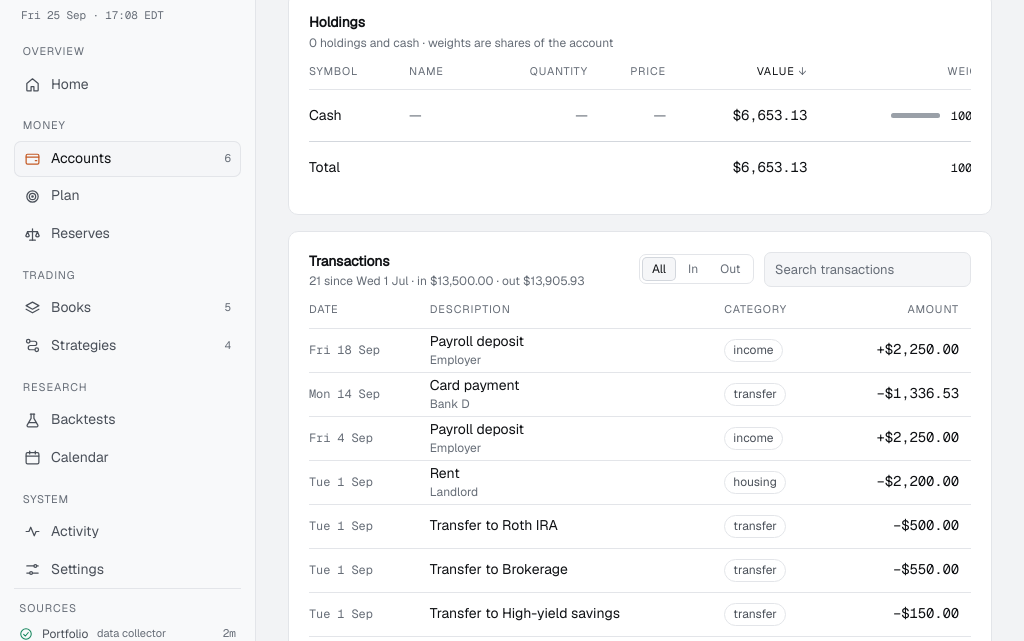
Test case: Account page › lists a bank account’s transactions newest first, with the totals, a Show filter and a search
The width and height of the screenshot is (1024, 641).
(page scrolled)
Click the button "Out".
click(730, 269)  # box x1=710 y1=257 x2=750 y2=281
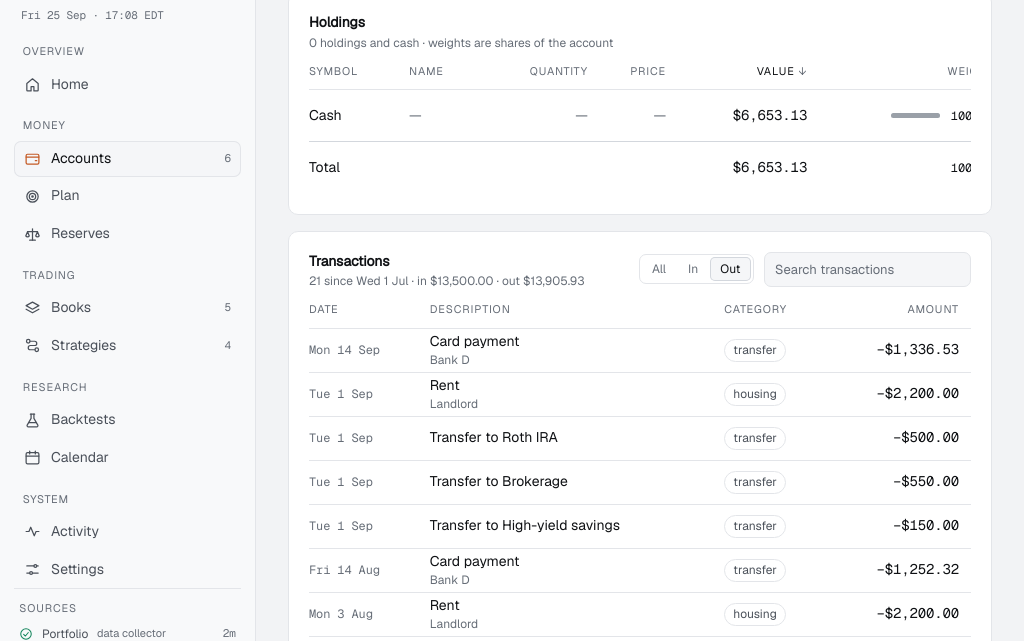
Click the button "In".
click(693, 269)  # box x1=678 y1=257 x2=708 y2=281
(page scrolled)
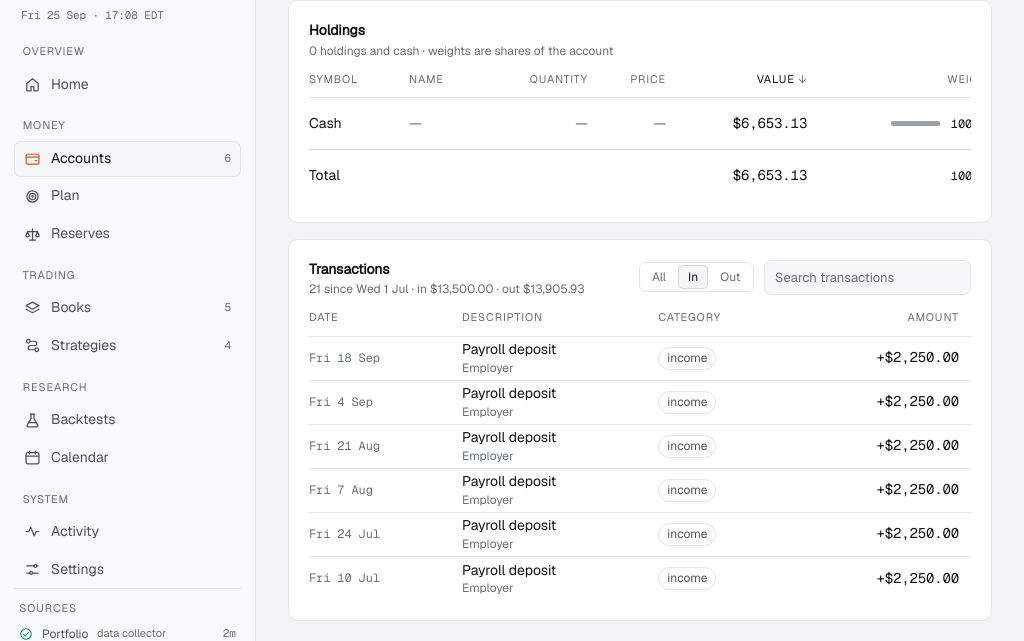
Click the button "All".
click(659, 277)  # box x1=642 y1=265 x2=676 y2=289
(page scrolled)
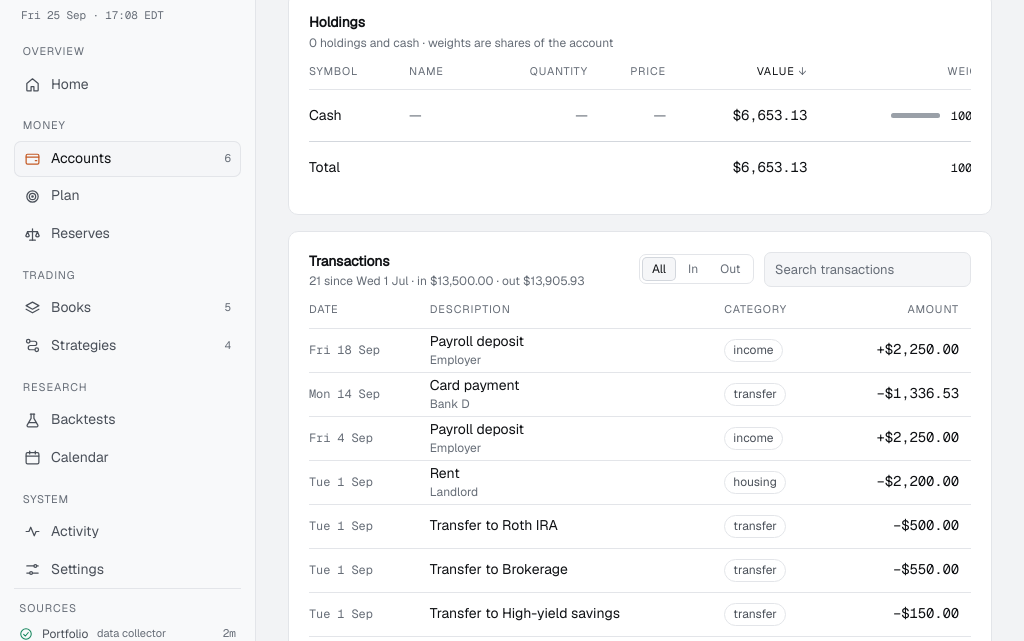
Type "rent" into the search field labelled "Search transactions".
click(868, 269); type("rent")  # box x1=764 y1=252 x2=971 y2=287
(page scrolled)
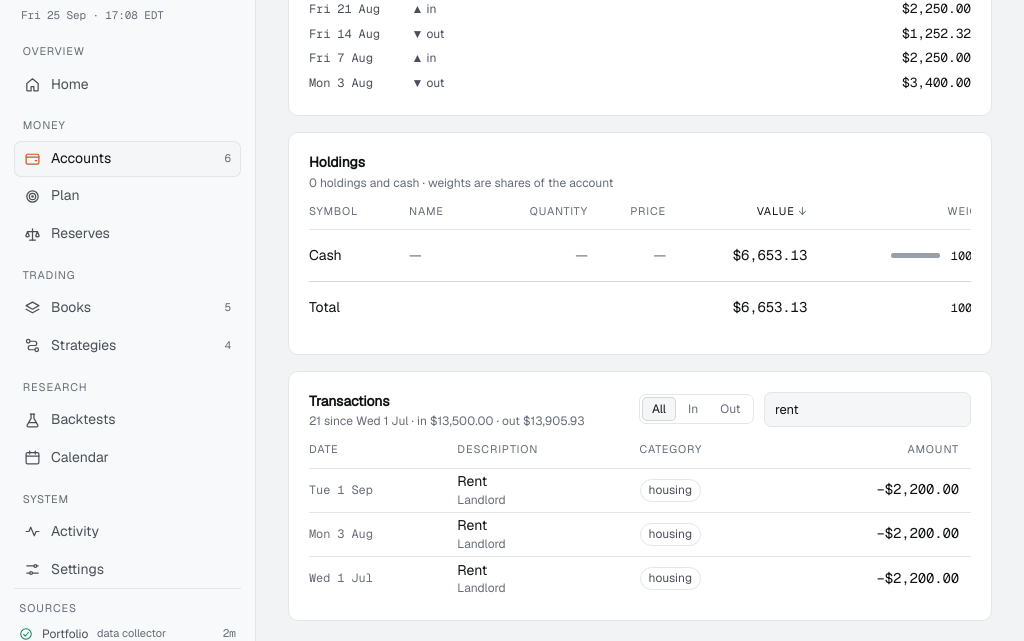
Replace the text in the search field named "Search transactions" with "landlord" at (868, 409), box x1=764 y1=392 x2=971 y2=427
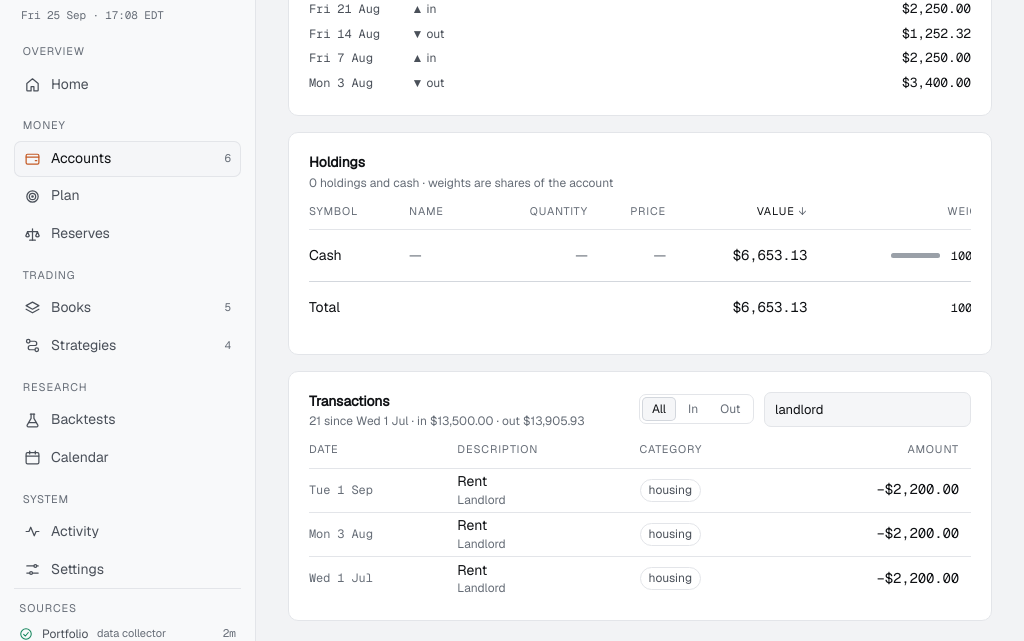
Replace the text in the search field named "Search transactions" with "zzz" at (868, 409), box x1=764 y1=392 x2=971 y2=427
(page scrolled)
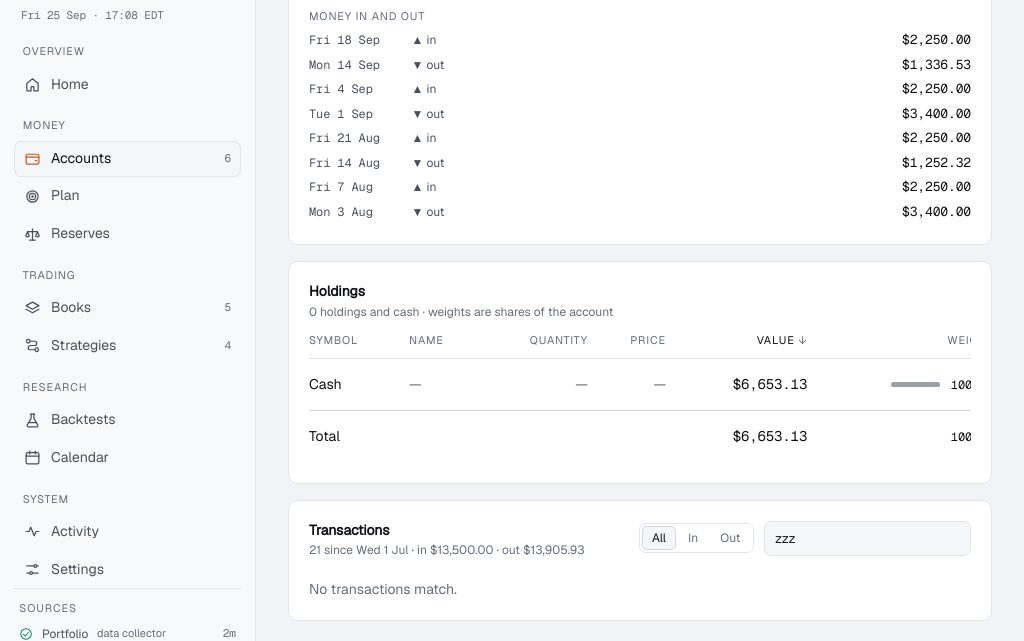
Check: the element that starts with "Transactions" shows "No transactions match.", box x1=309 y1=580 x2=457 y2=598
